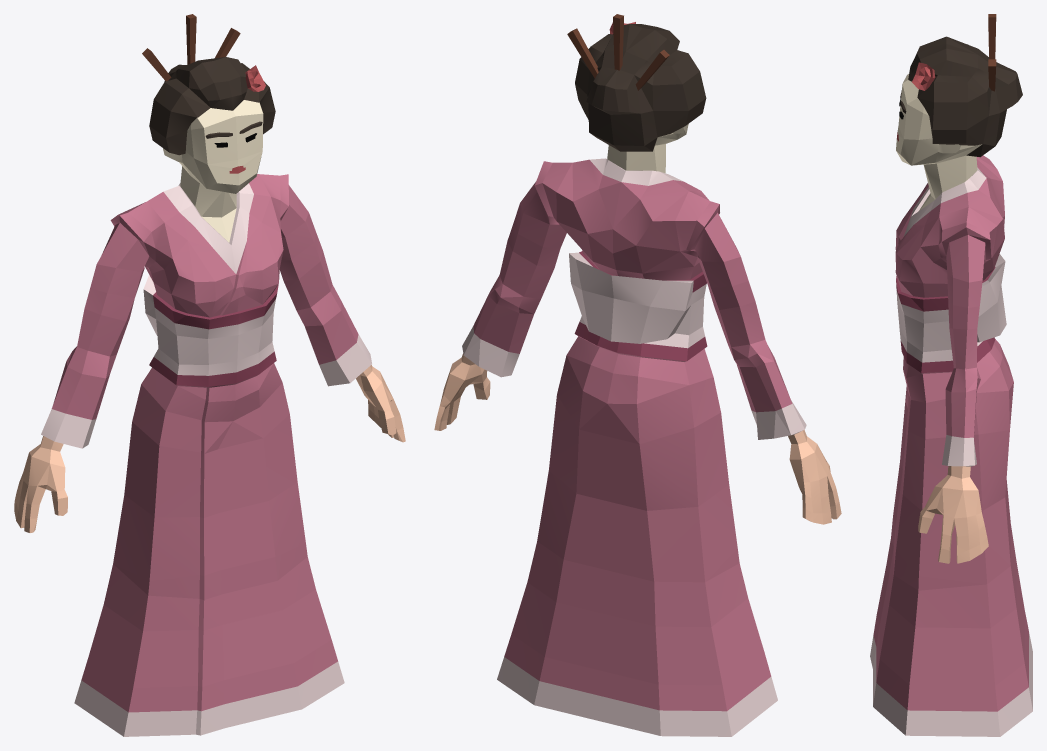
Rendered from Geisha.fbx.
3 renders of one model, left to right at view 1: azimuth 30°, elevation 25°; view 2: azimuth 150°, elevation 25°; view 3: azimuth 270°, elevation 25°, orthographic. The views are drawn at different scales.
Visible parts, largest first — view 1: SK_Character_Geisha, SK_Character_Geisha.001; view 2: SK_Character_Geisha, SK_Character_Geisha.001; view 3: SK_Character_Geisha, SK_Character_Geisha.001.
Part boxes in pixels (x1,y1,x2,y2): SK_Character_Geisha: (74,14,344,736); SK_Character_Geisha.001: (14,185,405,532); SK_Character_Geisha: (497,14,777,736); SK_Character_Geisha.001: (434,182,841,524); SK_Character_Geisha: (870,14,1032,736); SK_Character_Geisha.001: (918,227,989,563).
Bounding box in the file's own units: 113 × 193 × 41.96.
